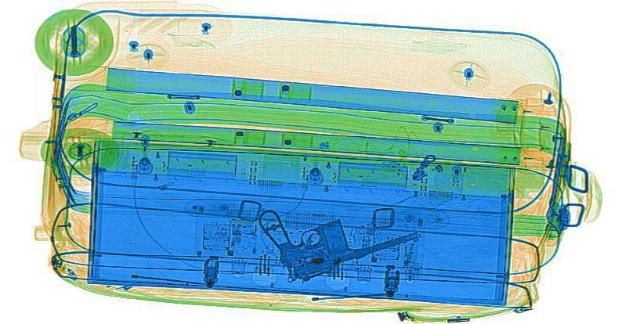Gun: (210, 182, 430, 281)
